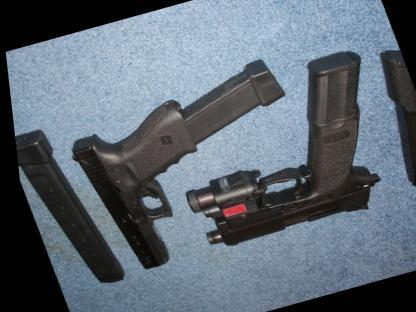pistol: (162, 109, 396, 254), (56, 96, 232, 280)
